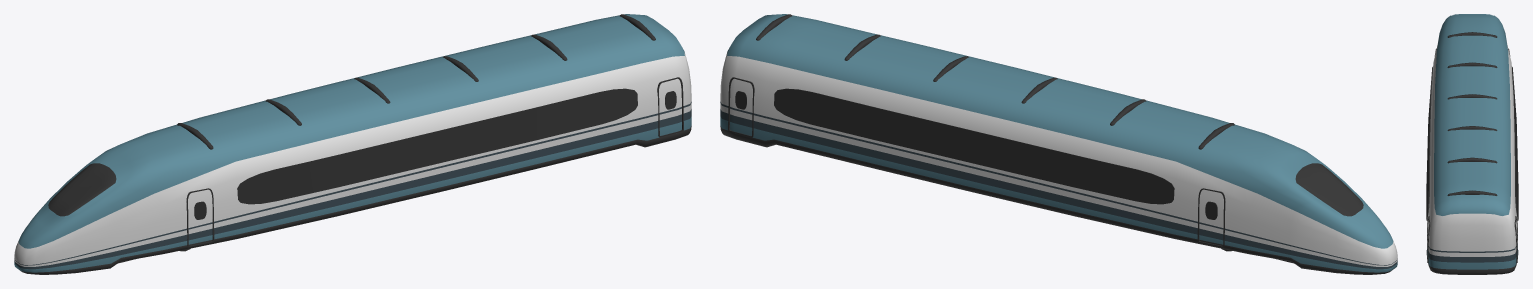
The model's file is HighSpeed_Front.fbx.
3 renders of one model, left to right at view 1: azimuth 30°, elevation 25°; view 2: azimuth 150°, elevation 25°; view 3: azimuth 270°, elevation 25°, orthographic. The views are drawn at different scales.
Parts seen in each view (by area): view 1: HighspeedTrain_Front; view 2: HighspeedTrain_Front; view 3: HighspeedTrain_Front.
Part boxes in pixels (x1,y1,x2,y2): HighspeedTrain_Front: [14, 14, 691, 274]; HighspeedTrain_Front: [720, 14, 1397, 274]; HighspeedTrain_Front: [1426, 14, 1518, 274].
Bounding box in the file's own units: 1216 × 190 × 203.
